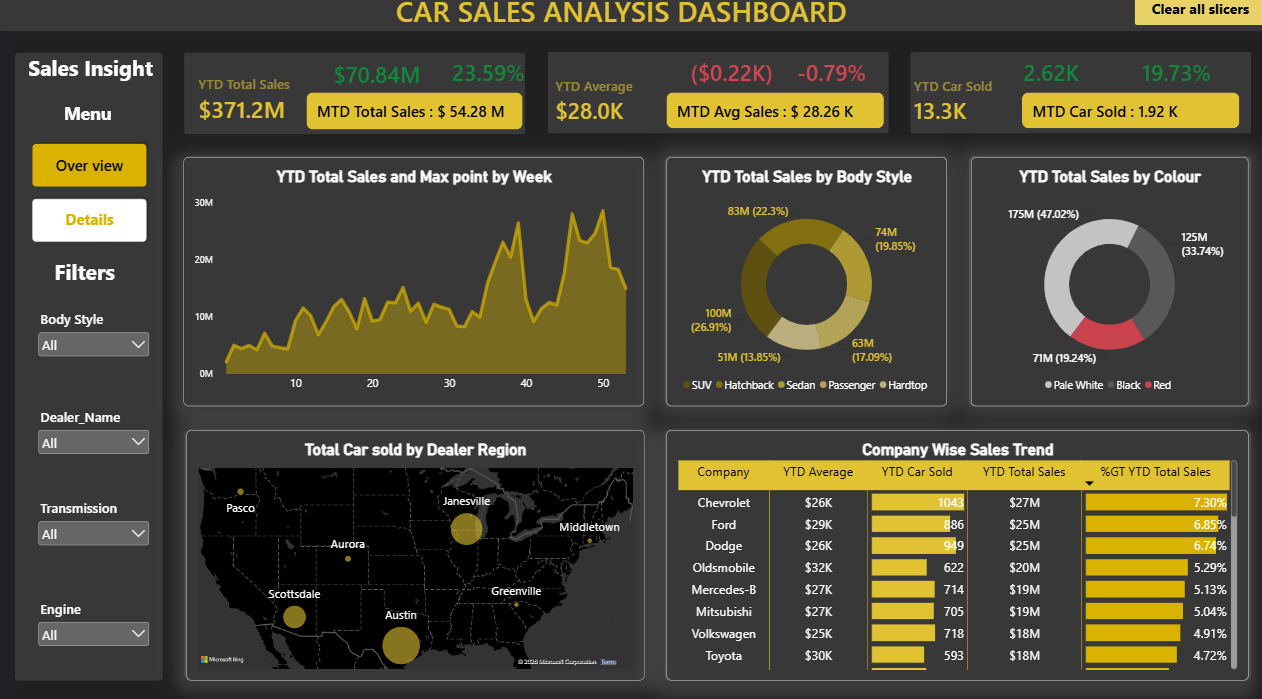

This screenshot's page, from the dashboard's own definition file:
{"tool":"powerbi","page":{"name":"Over view","canvas":[1920,1080],"ordinal":0},"visuals":[{"type":"cardVisual","fields":{"Data":["sales KPIs.YTD Total Sales"]},"box":[286.2,120.4,204.4,86.3],"z":0},{"type":"slicer","fields":{"Values":["car data.Body Style"]},"box":[54.6,480.4,177.6,82],"z":0},{"type":"cardVisual","fields":{"Data":["sales KPIs.Profit"]},"box":[490.6,93.1,177.2,61.3],"z":1000},{"type":"slicer","fields":{"Values":["car data.Dealer_Name"]},"box":[54.6,628.4,177.6,82],"z":1000},{"type":"cardVisual","fields":{"Data":["sales KPIs.Profit %"]},"box":[670,90.9,177.2,61.3],"z":2000},{"type":"slicer","fields":{"Values":["car data.Transmission"]},"box":[54.6,767.2,177.6,82],"z":2000},{"type":"cardVisual","fields":{"Data":["sales KPIs.MTD Total sales"]},"box":[465.6,152.2,327.1,56.8],"z":3000},{"type":"slicer","fields":{"Values":["car data.Engine"]},"box":[54.6,919.8,177.6,82],"z":3000},{"type":"cardVisual","fields":{"Data":["sales KPIs.YTD Average"]},"box":[826.8,122.7,204.4,86.3],"z":4000},{"type":"cardVisual","fields":{"Data":["sales KPIs.Avg profit"]},"box":[1031.2,90.9,177.2,61.3],"z":5000},{"type":"cardVisual","fields":{"Data":["sales KPIs.Avg profit %"]},"box":[1192.4,90.9,177.2,61.3],"z":6000},{"type":"cardVisual","fields":{"Data":["sales KPIs.MTD Average sales"]},"box":[1010.7,152.2,329.3,54.5],"z":7000},{"type":"donutChart","title":"YTD Total Sales by Body Style","fields":{"Category":["car data.Body Style"],"Y":["sales KPIs.YTD Total Sales"]},"box":[1010.7,249.8,424.7,377],"z":8000},{"type":"donutChart","title":"YTD Total Sales by Colour","fields":{"Category":["car data.Color"],"Y":["sales KPIs.YTD Total Sales"]},"box":[1471.8,249.8,420.2,377],"z":9000},{"type":"map","title":"Total Car sold by Dealer Region","fields":{"Category":["car data.Dealer_Region"],"Size":["sales KPIs.Total Car Sold"]},"box":[283.9,663.2,693,379],"z":10000},{"type":"tableEx","title":"Company Wise Sales Trend","fields":{"Values":["car data.Company","sales KPIs.YTD Average","sales KPIs.YTD Car Sold","sales KPIs.YTD Total Sales","Divide(sales KPIs.YTD Total Sales, ScopedEval(sales KPIs.YTD Total Sales, []))"]},"box":[1010.7,663.2,881.3,379.3],"z":11000},{"type":"areaChart","title":"YTD Total Sales and Max point by Week","fields":{"Category":["Datetable.Week"],"Y":["sales KPIs.Total sales"]},"box":[279.4,249.8,697.3,377],"z":12000},{"type":"cardVisual","fields":{"Data":["sales KPIs.YTD Car Sold"]},"box":[1369.6,122.7,204.4,86.3],"z":13000},{"type":"cardVisual","fields":{"Data":["sales KPIs.Car sold diff"]},"box":[1535.4,90.9,177.2,61.3],"z":14000},{"type":"cardVisual","fields":{"Data":["sales KPIs.Car sold %"]},"box":[1714.8,90.9,177.2,61.3],"z":15000},{"type":"cardVisual","fields":{"Data":["sales KPIs.MTD Car sol"]},"box":[1549,152.2,329.3,54.5],"z":16000},{"type":"textbox","box":[27.3,403,204.9,56.9],"z":19000},{"type":"textbox","box":[36.4,93.3,204.9,59.2],"z":20000},{"type":"textbox","box":[541.9,0,799.1,68.3],"z":22000},{"type":"pageNavigator","box":[45.4,224.9,184,159],"z":23001,"group":"g1"},{"type":"textbox","box":[54.5,165.8,159,43.2],"z":23002,"group":"g1"},{"type":"group","id":"g1","title":"Group 2","box":[45.4,165.8,184,218],"z":23003},{"type":"actionButton","box":[1719.4,0,200,50],"z":23004}]}

Visuals, with their boxes in screenshot pixels (x1, y1, x2, y2), scaled from the page's 1920x1080 canvas onto the 1262x699 screenshot:
cardVisual - sales KPIs.YTD Total Sales: bbox=(188, 78, 322, 134)
slicer - car data.Body Style: bbox=(36, 311, 153, 364)
cardVisual - sales KPIs.Profit: bbox=(322, 60, 439, 100)
slicer - car data.Dealer_Name: bbox=(36, 407, 153, 460)
cardVisual - sales KPIs.Profit %: bbox=(440, 59, 557, 99)
slicer - car data.Transmission: bbox=(36, 497, 153, 550)
cardVisual - sales KPIs.MTD Total sales: bbox=(306, 99, 521, 135)
slicer - car data.Engine: bbox=(36, 595, 153, 648)
cardVisual - sales KPIs.YTD Average: bbox=(543, 79, 678, 135)
cardVisual - sales KPIs.Avg profit: bbox=(678, 59, 794, 99)
cardVisual - sales KPIs.Avg profit %: bbox=(784, 59, 900, 99)
cardVisual - sales KPIs.MTD Average sales: bbox=(664, 99, 881, 134)
"YTD Total Sales by Body Style" donutChart: bbox=(664, 162, 943, 406)
"YTD Total Sales by Colour" donutChart: bbox=(967, 162, 1244, 406)
"Total Car sold by Dealer Region" map: bbox=(187, 429, 642, 675)
"Company Wise Sales Trend" tableEx: bbox=(664, 429, 1244, 675)
"YTD Total Sales and Max point by Week" areaChart: bbox=(184, 162, 642, 406)
cardVisual - sales KPIs.YTD Car Sold: bbox=(900, 79, 1035, 135)
cardVisual - sales KPIs.Car sold diff: bbox=(1009, 59, 1126, 99)
cardVisual - sales KPIs.Car sold %: bbox=(1127, 59, 1244, 99)
cardVisual - sales KPIs.MTD Car sol: bbox=(1018, 99, 1235, 134)
textbox: bbox=(18, 261, 153, 298)
textbox: bbox=(24, 60, 159, 99)
textbox: bbox=(356, 0, 881, 44)
pageNavigator: bbox=(30, 146, 151, 248)
textbox: bbox=(36, 107, 140, 135)
"Group 2" group: bbox=(30, 107, 151, 248)
actionButton: bbox=(1130, 0, 1261, 32)
